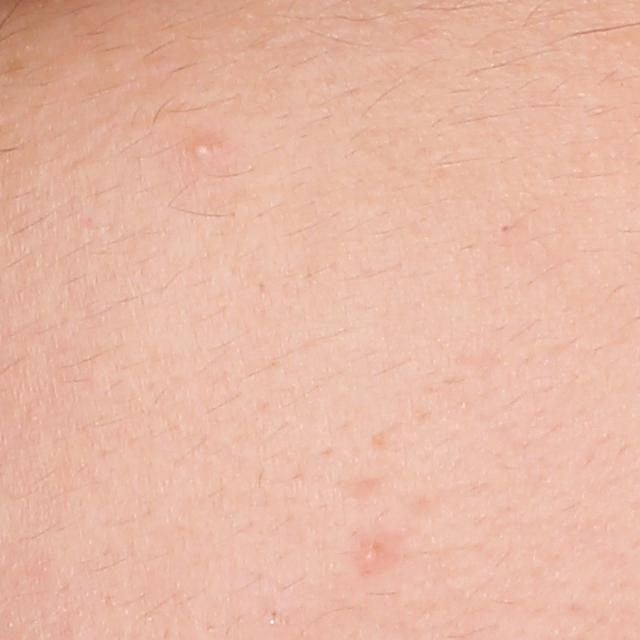comedo: (499, 221, 513, 234)
pustule: (190, 135, 221, 162)
